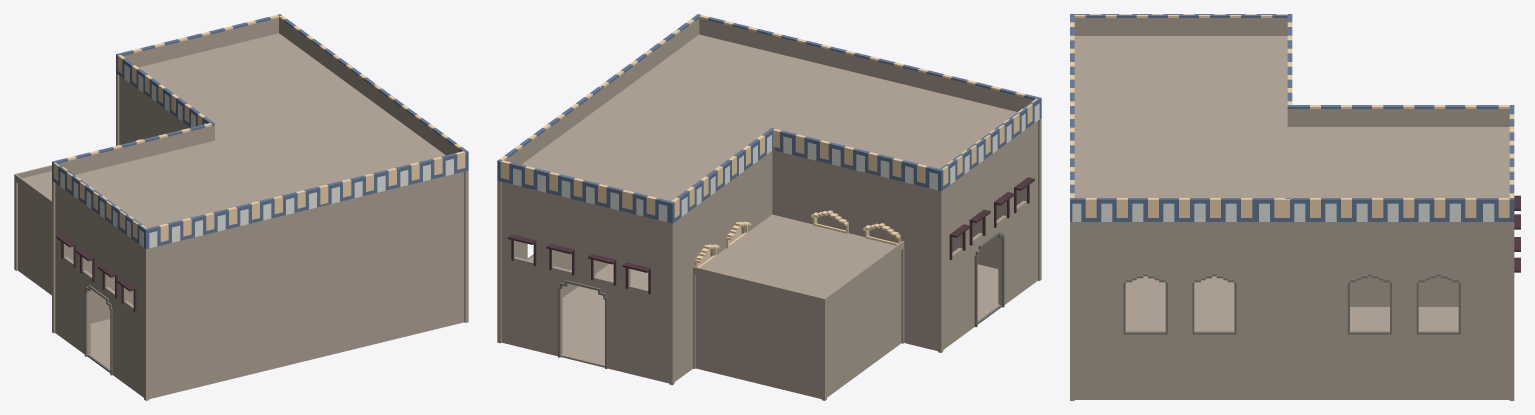
Rendered from GameJam-House6.obj.
3 renders of one model, left to right at view 1: azimuth 30°, elevation 25°; view 2: azimuth 150°, elevation 25°; view 3: azimuth 270°, elevation 25°, orthographic. The views are drawn at different scales.
Size of the model in its own units: 20.1 by 10 by 20.3.
1 material, 1 textured.
